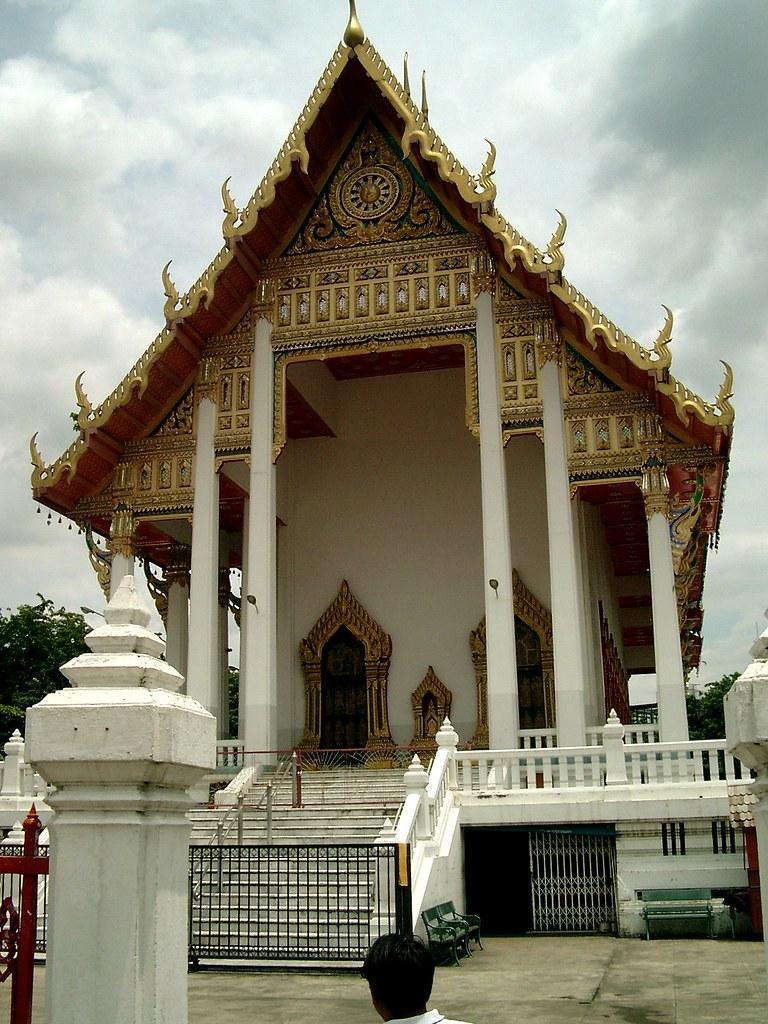temple: (17, 1, 752, 983)
